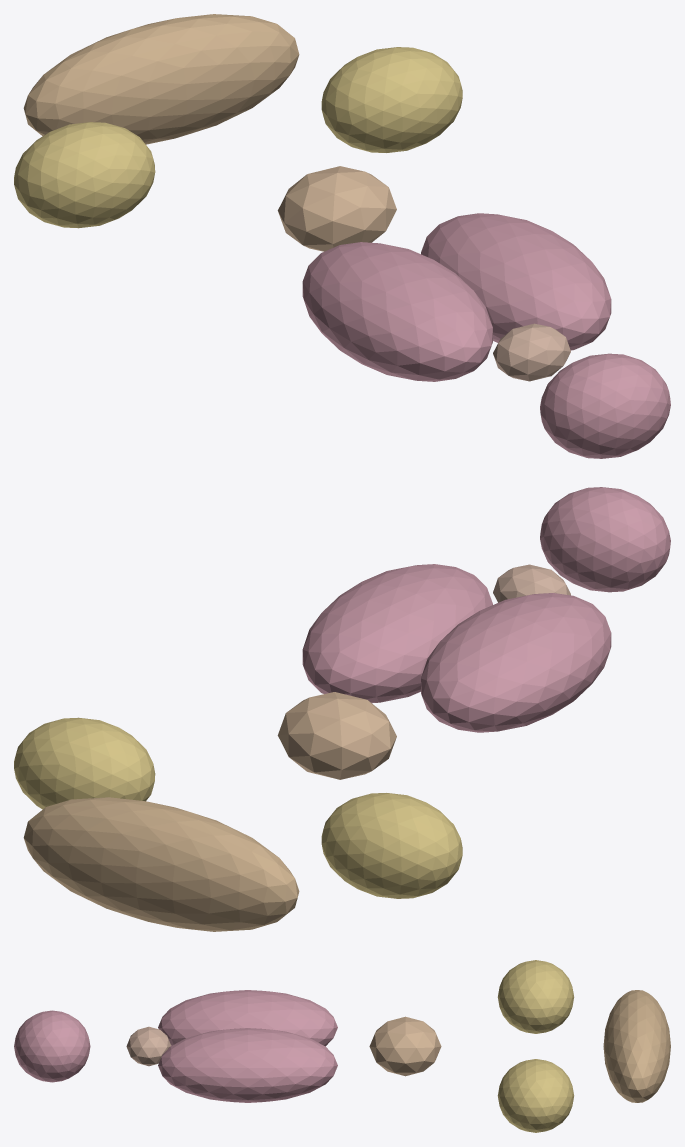
The model's file is endocrine-g3-medium.glb.
3 renders of one model, top to bottom at view 1: azimuth 30°, elevation 25°; view 2: azimuth 150°, elevation 25°; view 3: azimuth 270°, elevation 25°, orthographic. The views are drawn at different scales.
Visible parts, largest first — view 1: pancreas_proxy, thyroid_left, thyroid_right, right_adrenal, left_adrenal, pituitary_proxy, thymus_proxy, parathyroid_region_proxy; view 2: pancreas_proxy, thyroid_left, thyroid_right, left_adrenal, pituitary_proxy, right_adrenal, thymus_proxy, parathyroid_region_proxy; view 3: thyroid_right, thyroid_left, pancreas_proxy, left_adrenal, right_adrenal, pituitary_proxy, thymus_proxy, parathyroid_region_proxy.
Part boxes in pixels (x1,y1,x2,y2): pancreas_proxy: (23, 14, 299, 144); thyroid_left: (302, 242, 492, 381); thyroid_right: (421, 213, 611, 350); right_adrenal: (321, 47, 462, 152); left_adrenal: (14, 122, 155, 228); pituitary_proxy: (540, 353, 670, 458); thymus_proxy: (277, 166, 396, 251); parathyroid_region_proxy: (493, 323, 570, 381); pancreas_proxy: (23, 797, 299, 931); thyroid_left: (421, 593, 611, 732); thyroid_right: (302, 564, 492, 703); left_adrenal: (321, 793, 462, 898); pituitary_proxy: (540, 487, 670, 592); right_adrenal: (14, 717, 155, 809); thymus_proxy: (277, 692, 396, 779); parathyroid_region_proxy: (493, 564, 570, 602); thyroid_right: (158, 1028, 337, 1102); thyroid_left: (158, 990, 337, 1046); pancreas_proxy: (603, 990, 670, 1102); left_adrenal: (497, 960, 574, 1033); right_adrenal: (497, 1059, 574, 1132); pituitary_proxy: (14, 1010, 90, 1082); thymus_proxy: (369, 1016, 441, 1076); parathyroid_region_proxy: (126, 1026, 170, 1066).
Bounding box in the file's own units: 1.48 × 0.36 × 2.92.
